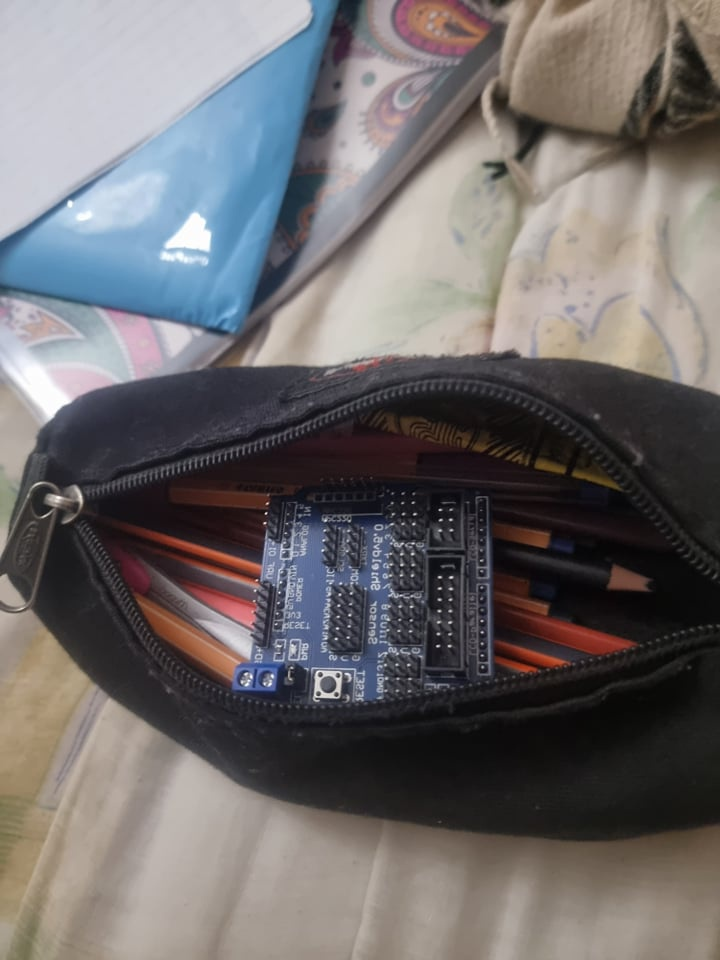5V EXPANSION: (230, 485, 500, 708)
